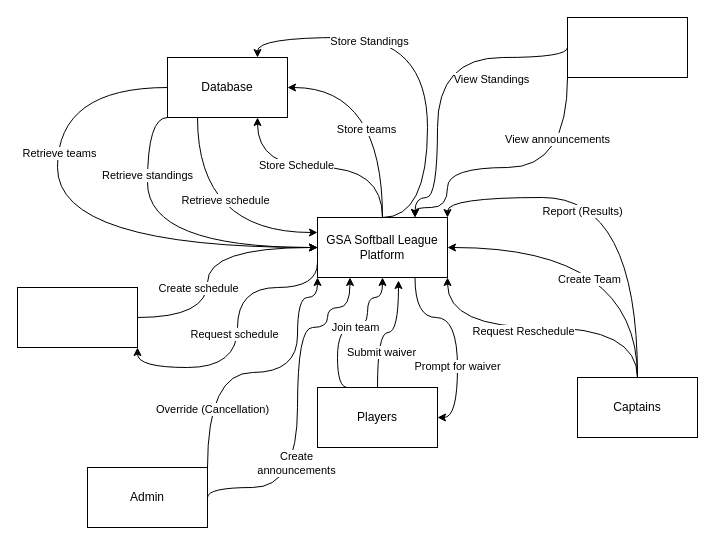
Some shapes in this 715 by 545 pixel diagram are drawn without their labels. Each missing label, with the centre of its shape:
Server: point 77,317
Users: point 627,47
